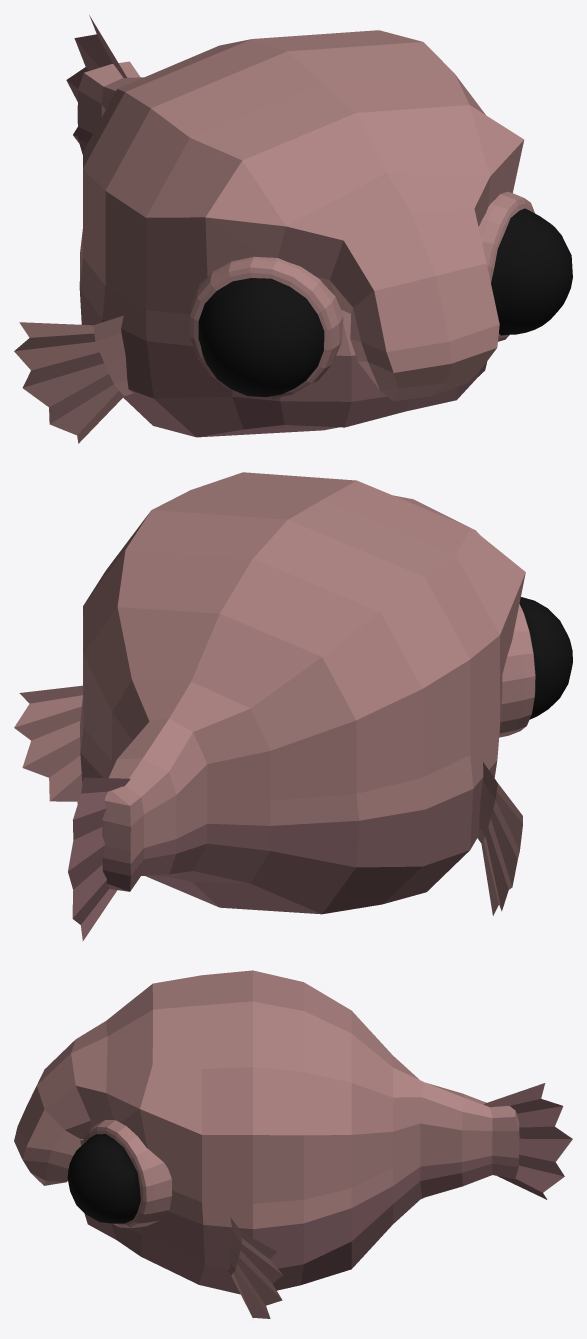
Rendered from Blobfish.glb.
3 views of the same model, one above another, from view 1: azimuth 30°, elevation 25°; view 2: azimuth 150°, elevation 25°; view 3: azimuth 270°, elevation 25° (orthographic). The views are drawn at different scales.
Parts seen in each view (by area): view 1: Blobfish; view 2: Blobfish; view 3: Blobfish.
Part boxes in pixels (box(x1,y1,x2,y2)): Blobfish: box(14, 15, 572, 443); Blobfish: box(14, 472, 572, 940); Blobfish: box(14, 970, 572, 1318).
Size of the model in its own units: 0.3751 by 0.2583 by 0.4953.
